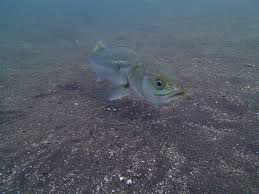suzuki: (90, 41, 182, 105)
